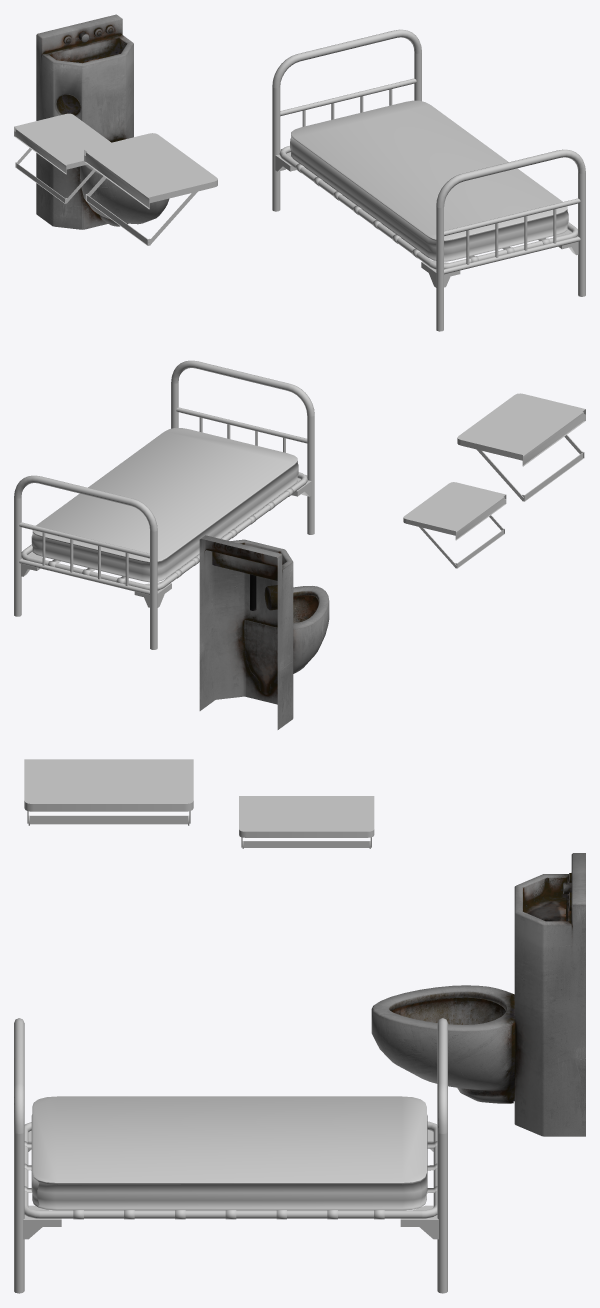
File: SM_Cell_01_Preset_High.fbx
The picture shows the model from 3 angles, top to bottom: view 1: azimuth 30°, elevation 25°; view 2: azimuth 150°, elevation 25°; view 3: azimuth 270°, elevation 25°; orthographic projection. The views are drawn at different scales.
Visible parts, largest first — view 1: SM_Cell_01_Preset_High_LOD0; view 2: SM_Cell_01_Preset_High_LOD0; view 3: SM_Cell_01_Preset_High_LOD0.
Boxes of the visible parts, x1=… form: SM_Cell_01_Preset_High_LOD0: x1=14, y1=14, x2=585, y2=331; SM_Cell_01_Preset_High_LOD0: x1=14, y1=360, x2=585, y2=729; SM_Cell_01_Preset_High_LOD0: x1=14, y1=759, x2=585, y2=1293.
Size of the model in its own units: 306 by 270 by 136.
